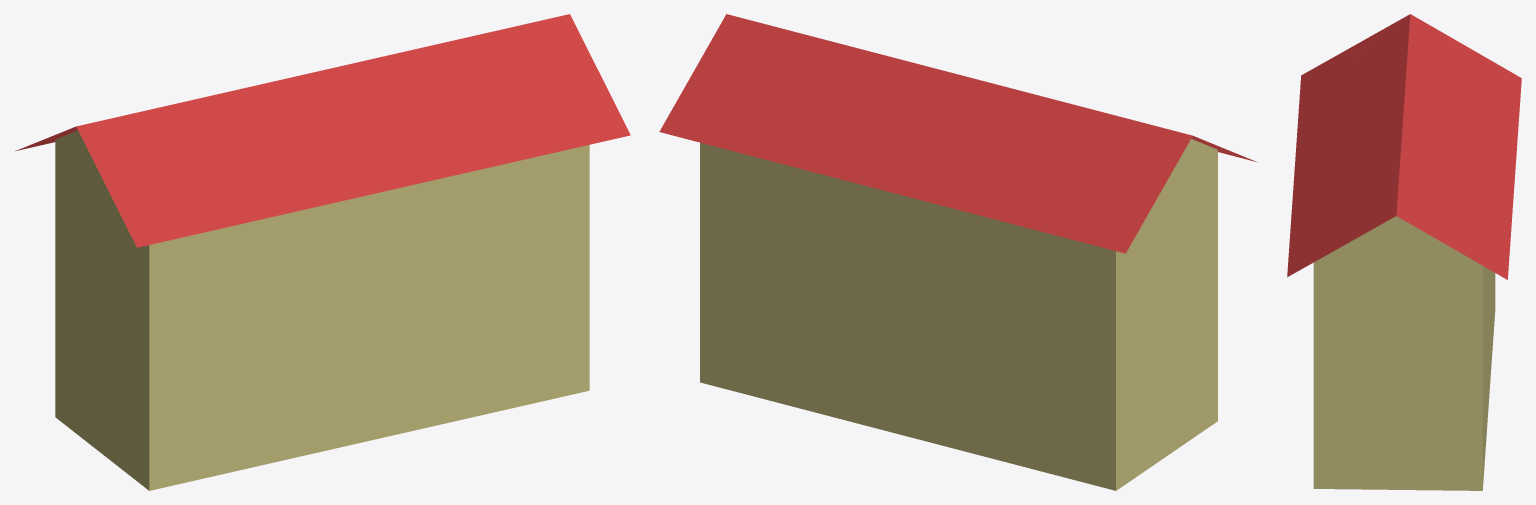
The picture shows the model from 3 angles, left to right: view 1: azimuth 30°, elevation 25°; view 2: azimuth 150°, elevation 25°; view 3: azimuth 270°, elevation 25°; orthographic projection. The views are drawn at different scales.
Bounding box in the file's own units: 14.07 × 6.82 × 9.13.
